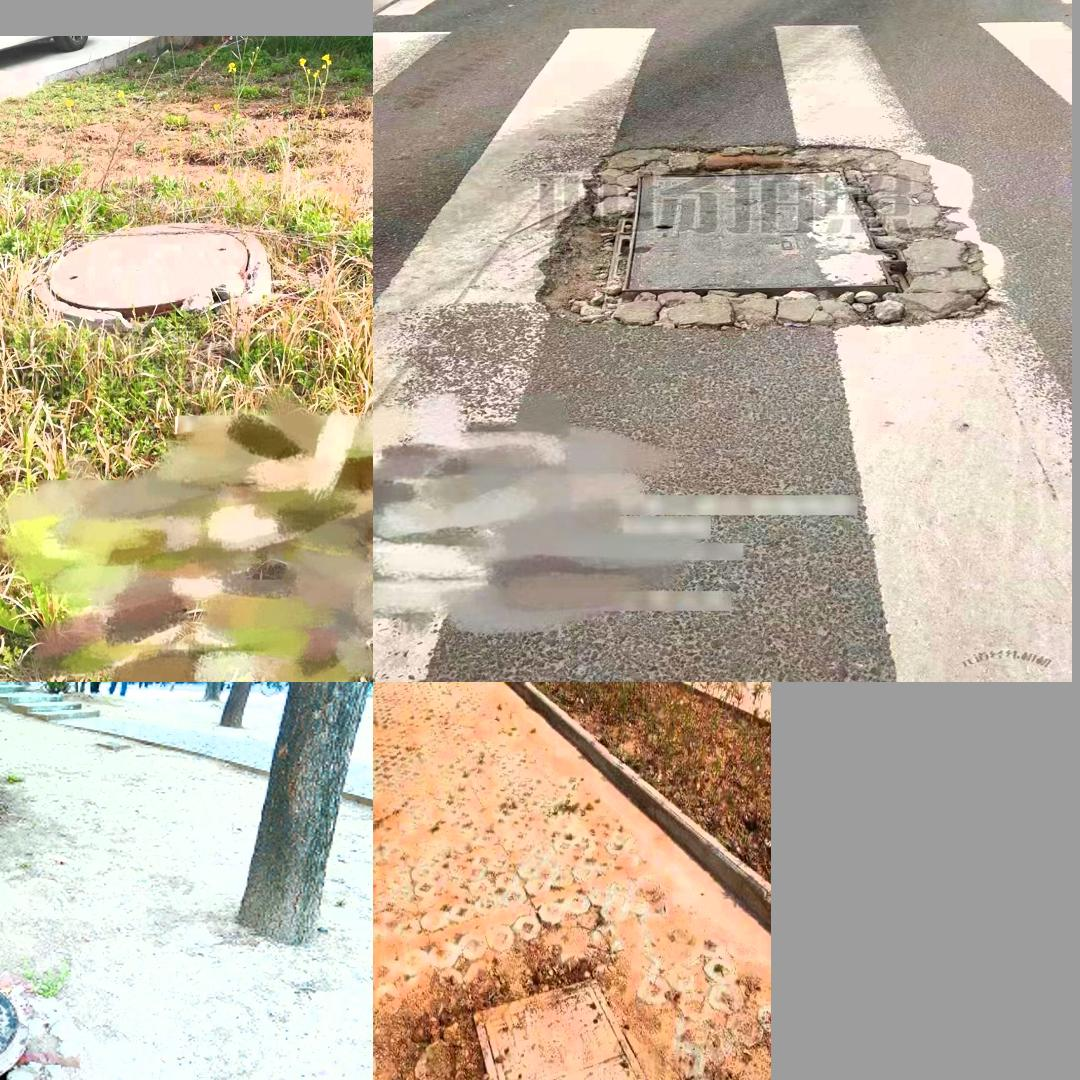circle: (643, 397, 1080, 682), (17, 215, 268, 332), (455, 972, 698, 1080), (0, 970, 97, 1080)
